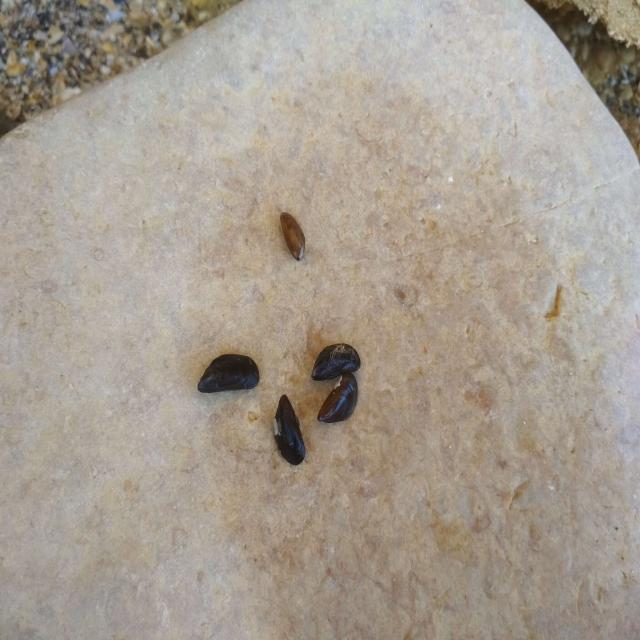Mytilaster_lineatus: (272, 393, 306, 465), (199, 356, 259, 394), (317, 375, 357, 422), (312, 344, 362, 379), (278, 215, 306, 260)
